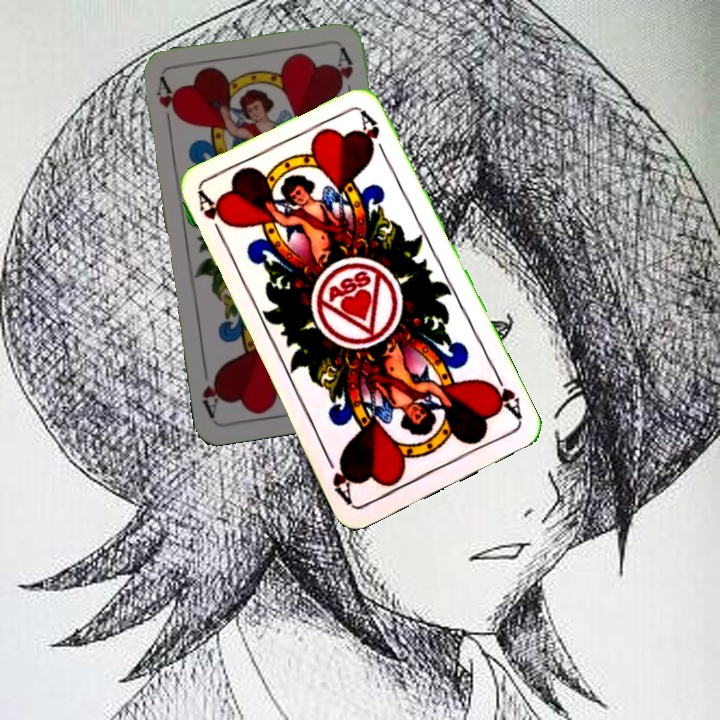HA: (483, 368, 525, 423), (194, 188, 230, 245), (152, 74, 181, 133)
